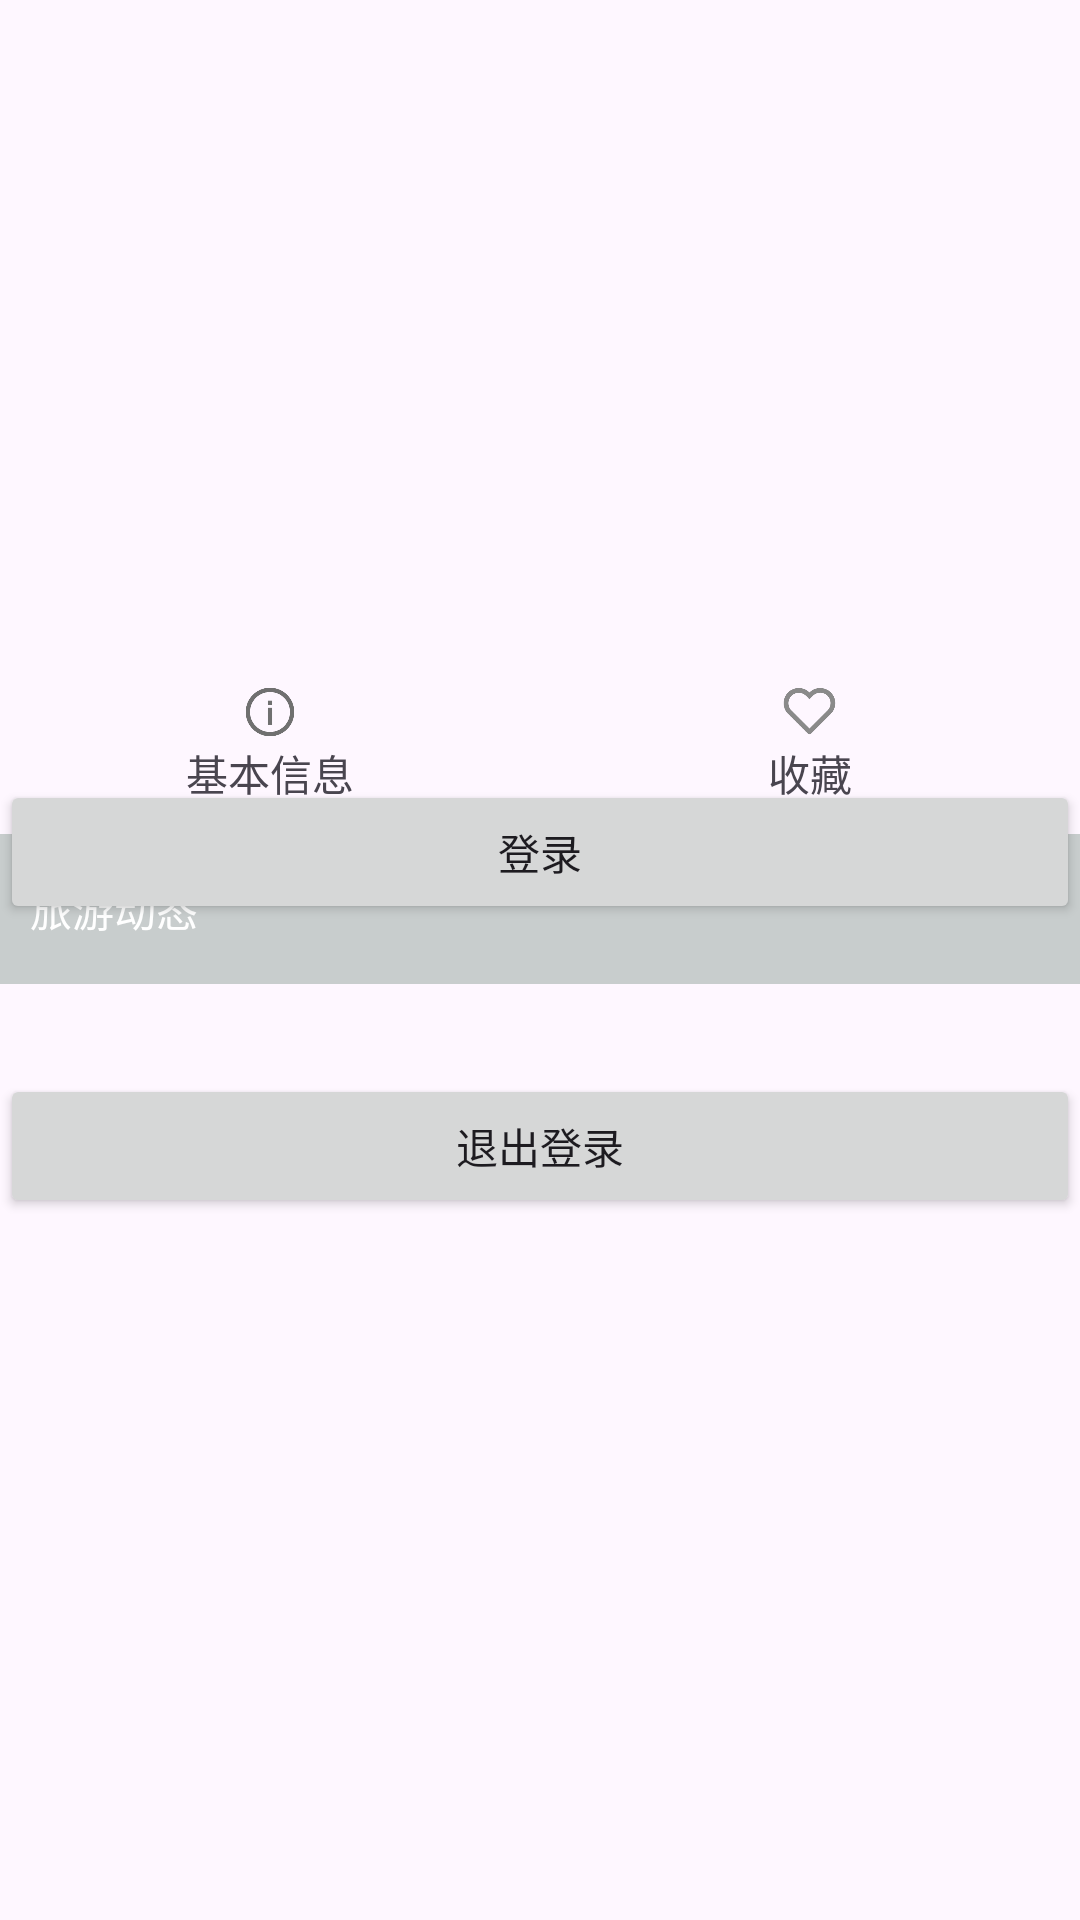

Where icons sit on this 1080×1920 app screen, as (x1, y1, x2, y2):
love: (784, 688, 835, 734)
